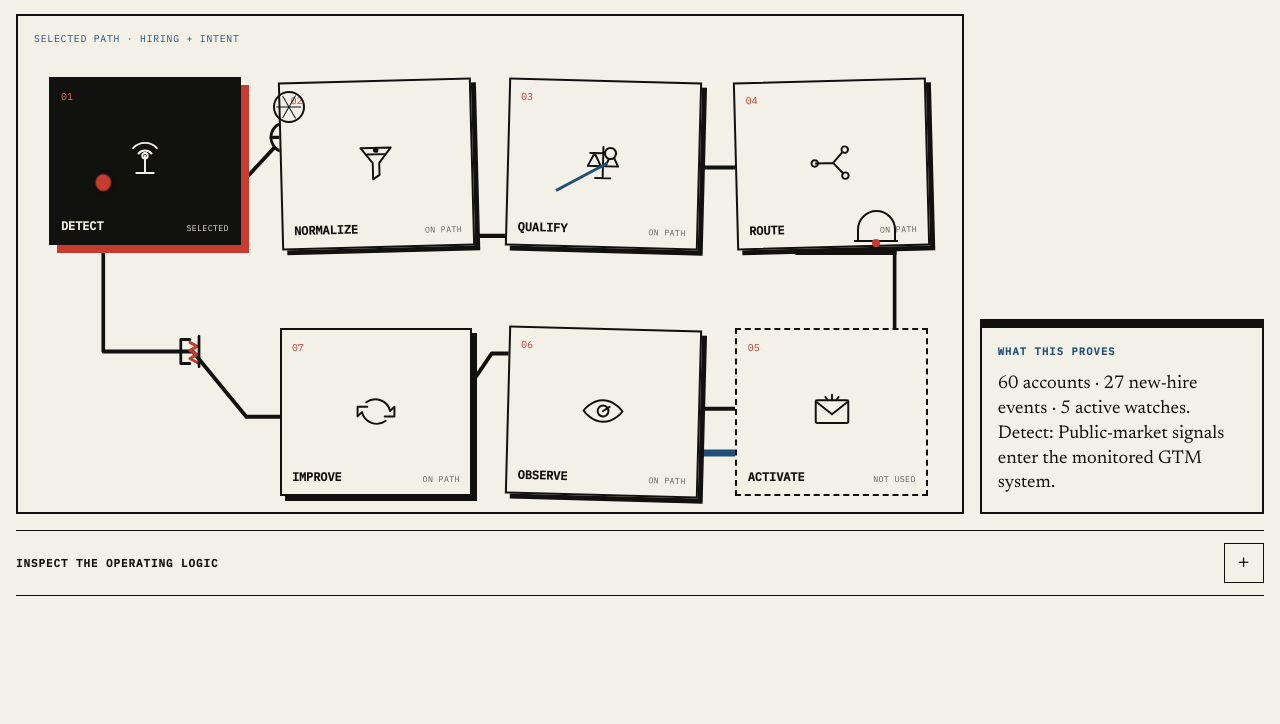
ControlRoom › derives campaign and sampled-action telemetry from consistent snapshot counts
(page scrolled)
Click the text "Inspect the operating logic" at (117, 563), box 16,556 -> 219,570
(page scrolled)
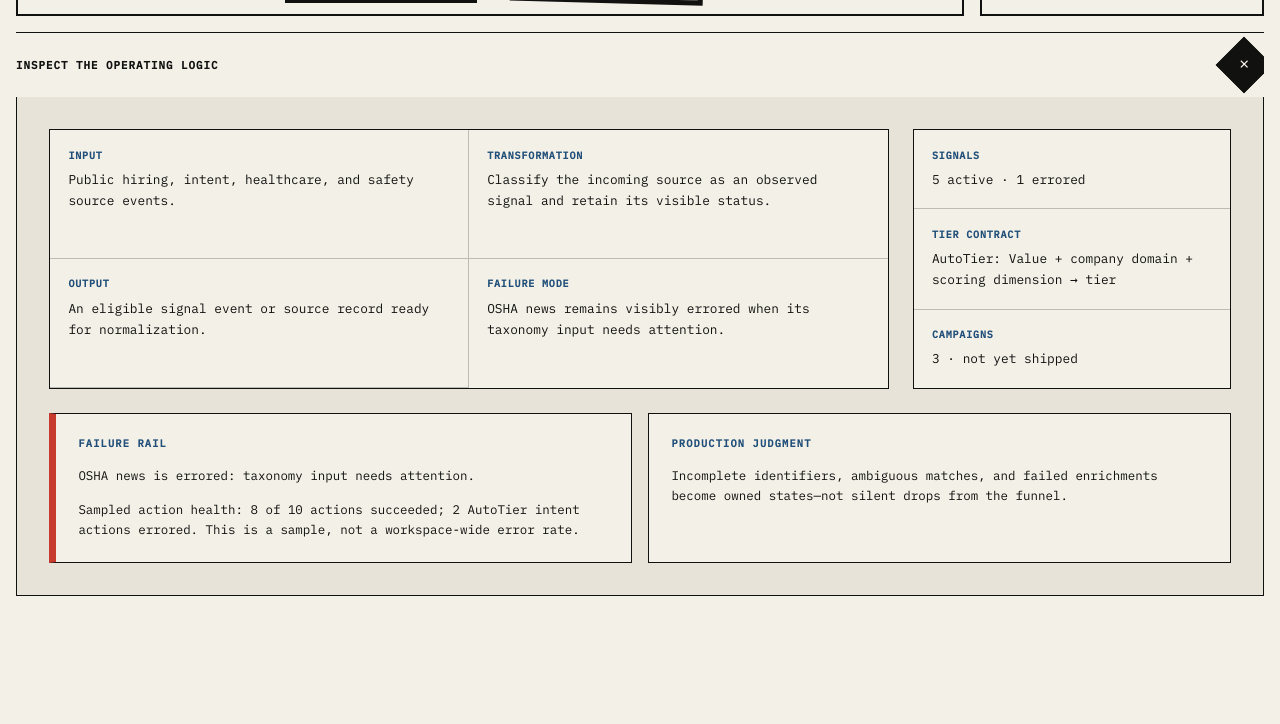
Expected: the element named "Control Room telemetry" shows "3 · not yet shipped", 932,350 -> 1078,367
Expected: the element named "Reliability telemetry" shows "8 of 10 actions succeeded; 2 AutoTier intent actions errored", 49,413 -> 1231,563
